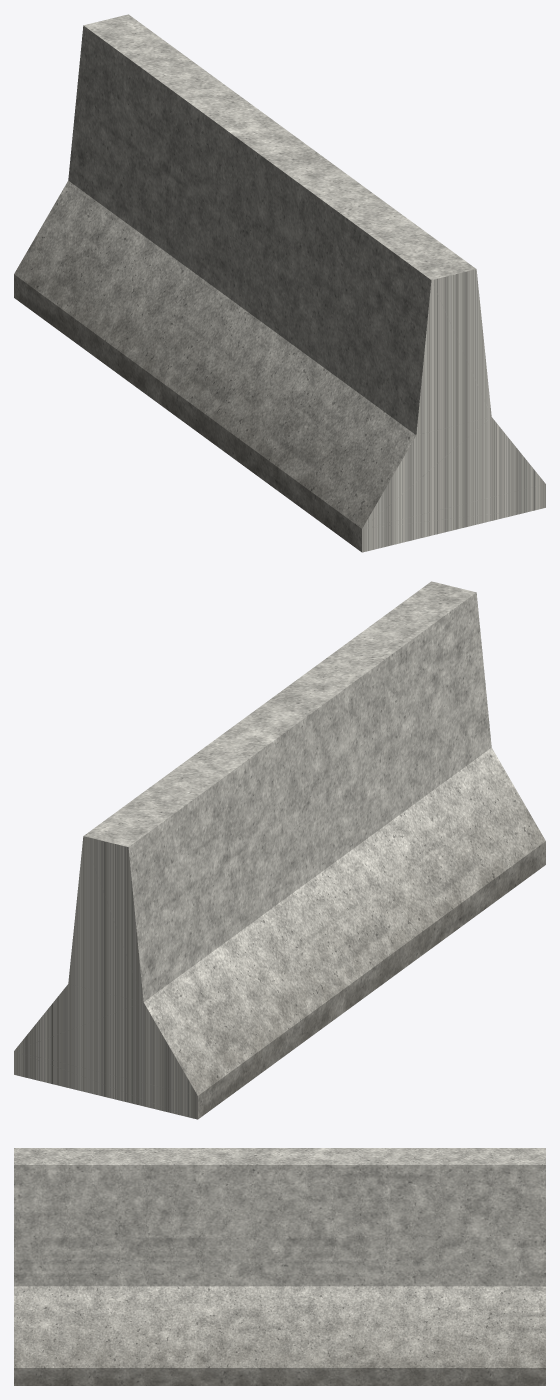
File: SM_Morin_NewJersey_LOD1.fbx
3 renders of one model, top to bottom at view 1: azimuth 30°, elevation 25°; view 2: azimuth 150°, elevation 25°; view 3: azimuth 270°, elevation 25°, orthographic. The views are drawn at different scales.
Visible parts, largest first — view 1: SM_Morin_NewJersey_LOD1; view 2: SM_Morin_NewJersey_LOD1; view 3: SM_Morin_NewJersey_LOD1.
Part boxes in pixels (box(x1,y1,x2,y2)): SM_Morin_NewJersey_LOD1: box(14, 14, 545, 552); SM_Morin_NewJersey_LOD1: box(14, 581, 545, 1119); SM_Morin_NewJersey_LOD1: box(14, 1148, 545, 1385).
Bounding box in the file's own units: 61 × 200 × 81.
1 material, 1 textured.
